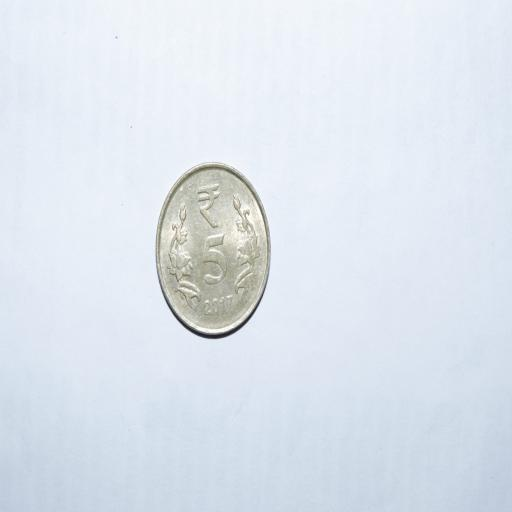rupee5: (153, 162, 273, 341)
